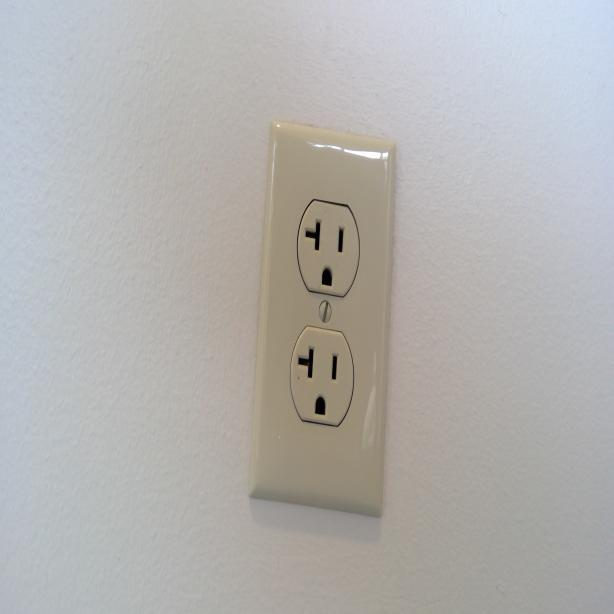typeb: (293, 330, 347, 428), (302, 199, 355, 296)
